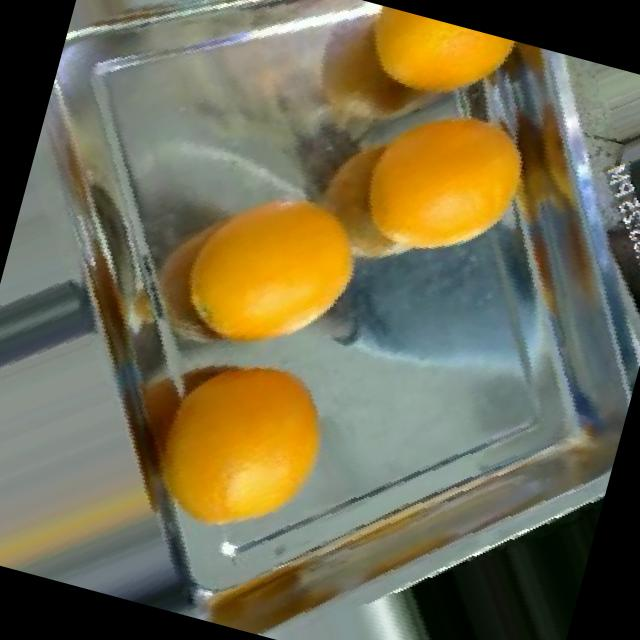Fruit: (287, 49, 564, 308), (364, 487, 593, 640)
